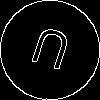U: (25, 25, 74, 80)
